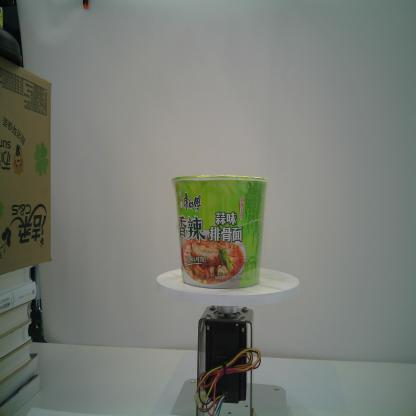Instant Noodles: (169, 172, 273, 288)
